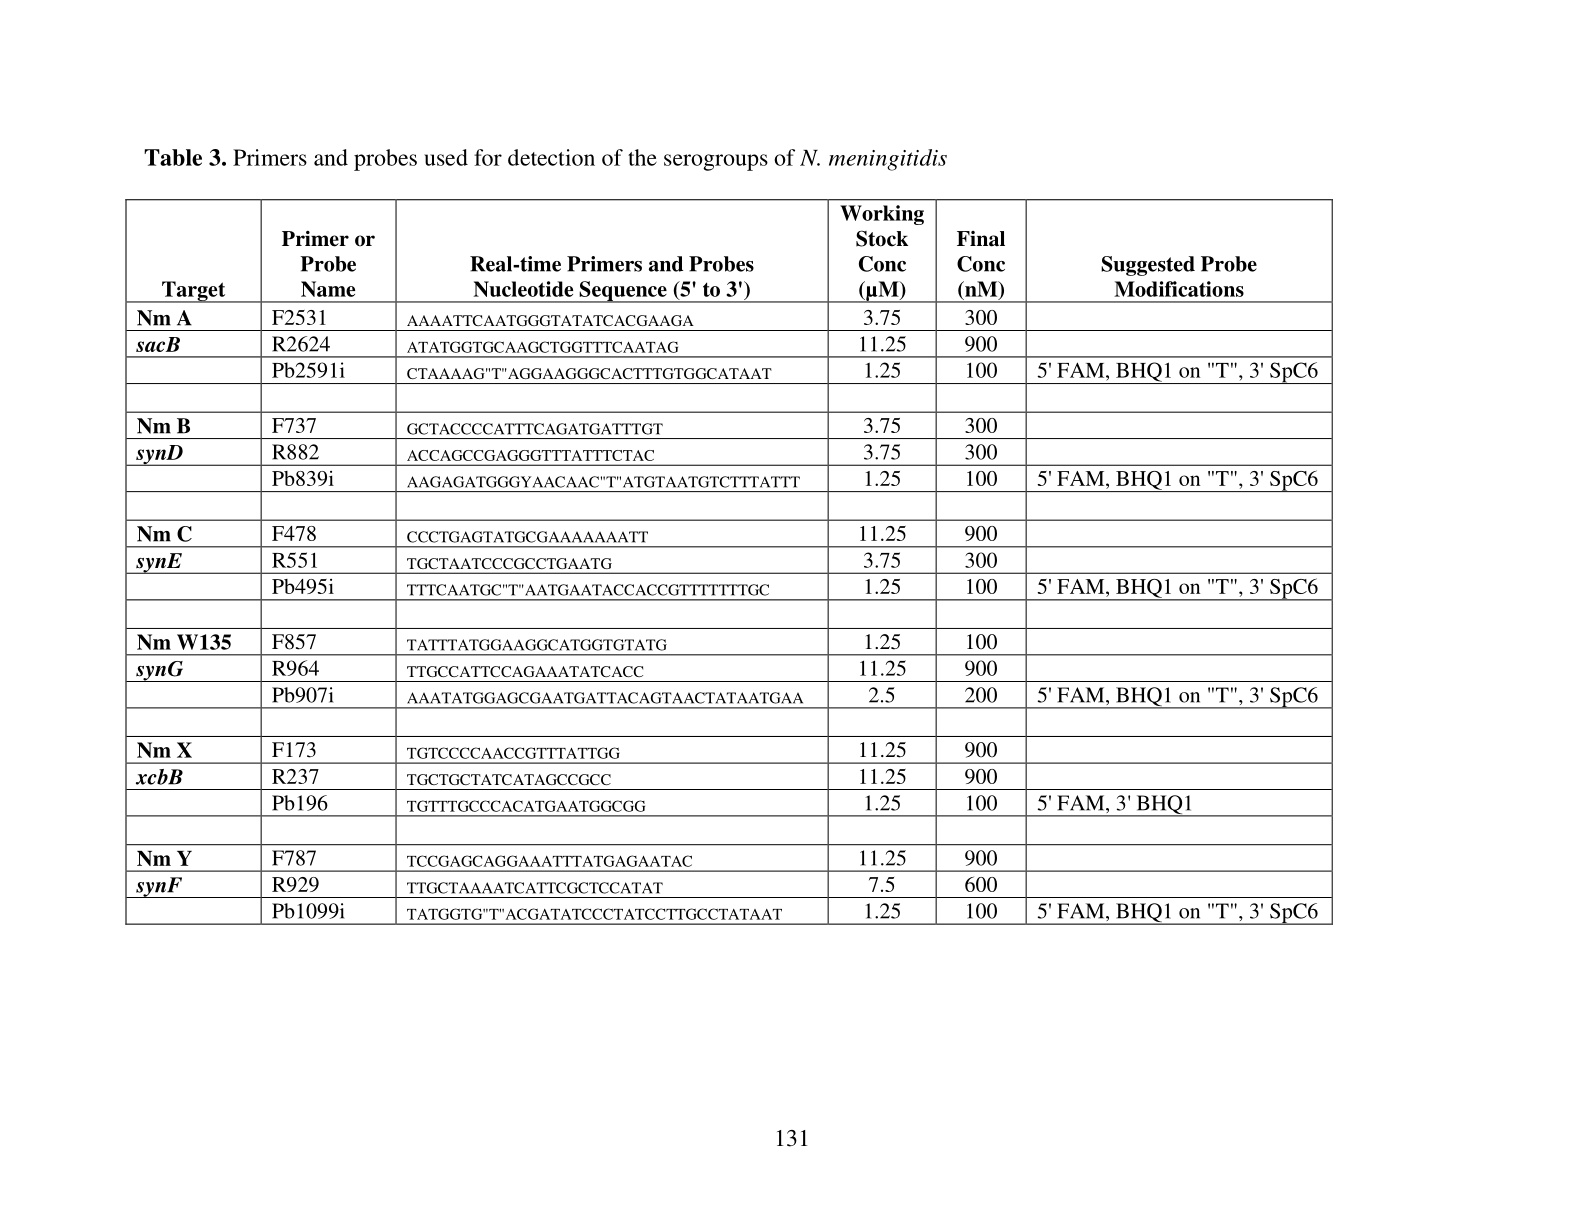full_lined: (123, 198, 1335, 926)
